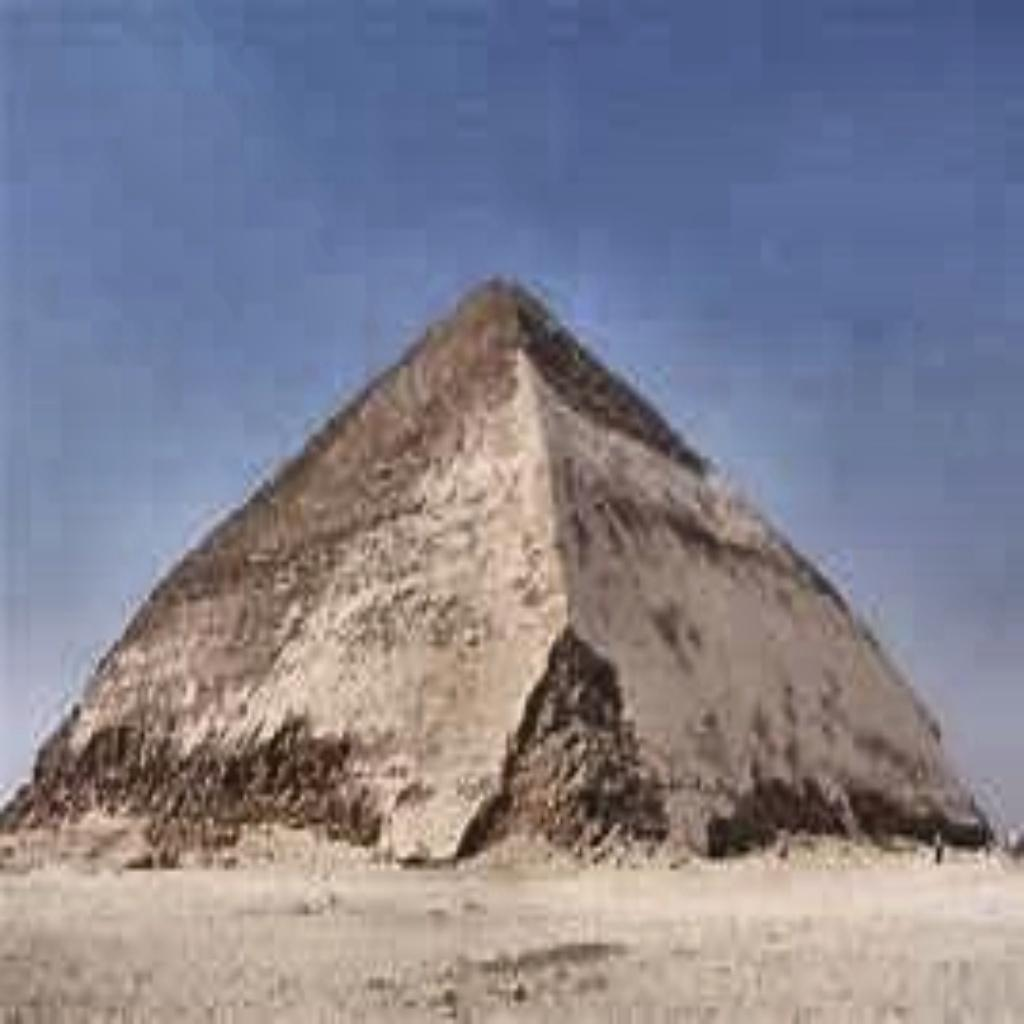Bent Pyramid of King Sneferu: (8, 263, 994, 864)
